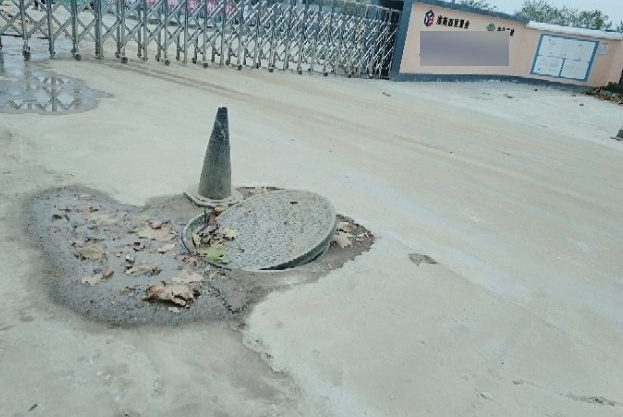uncovered: (181, 190, 338, 270)
